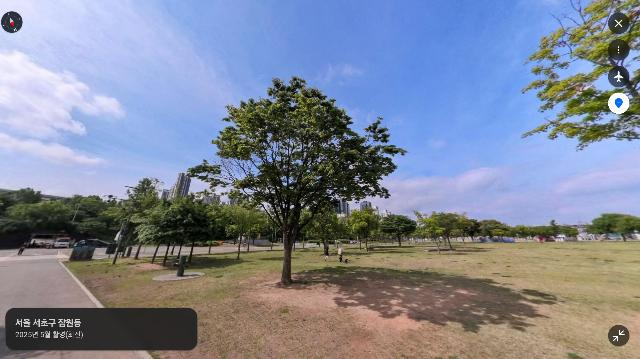other: (184, 75, 408, 287), (520, 0, 640, 152), (146, 195, 201, 267), (172, 196, 226, 265), (122, 190, 173, 261), (217, 203, 259, 260), (341, 206, 381, 252), (432, 213, 474, 253), (413, 211, 448, 256), (588, 213, 640, 243), (380, 214, 418, 248), (466, 219, 497, 249), (492, 221, 517, 247), (548, 218, 567, 244), (519, 223, 541, 244)
